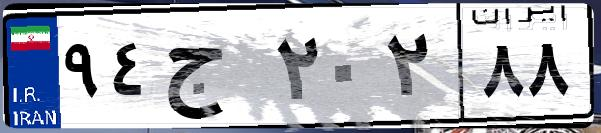0: (330, 28, 385, 110)
2: (270, 28, 330, 110), (385, 28, 445, 110)
4: (110, 28, 158, 98)
8: (475, 38, 525, 113), (525, 38, 570, 115)
9: (57, 26, 110, 100)
ج: (158, 20, 270, 120)
